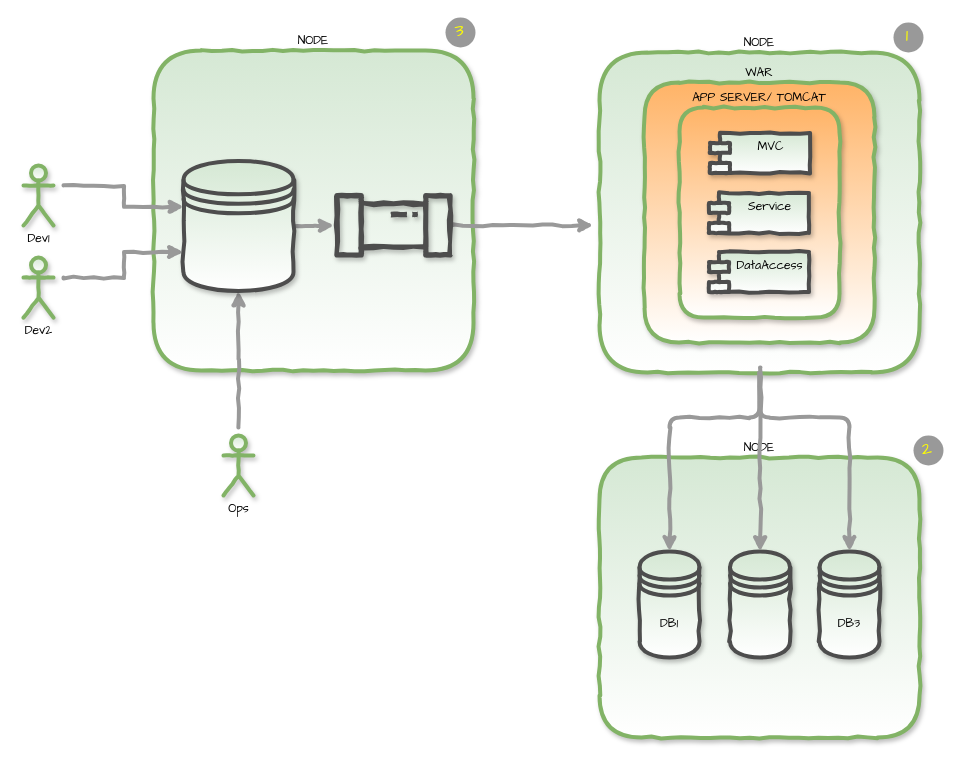
Some shapes in this 960 by 763 pixel diagram are drawn without their labels. Here are the shapes that lost their labels. From the top down, the centre of each, then its label:
point (239, 227): Source Code Repo
point (394, 226): CI Pipeline
point (761, 605): DB2
